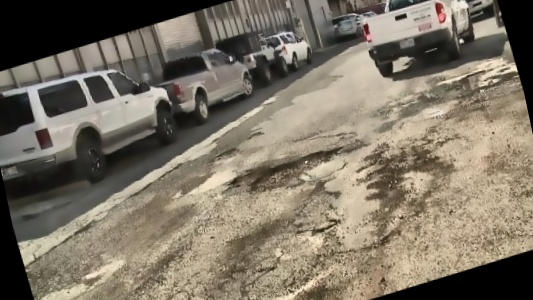pothole: (245, 140, 348, 192), (224, 169, 256, 193), (455, 63, 491, 84)
